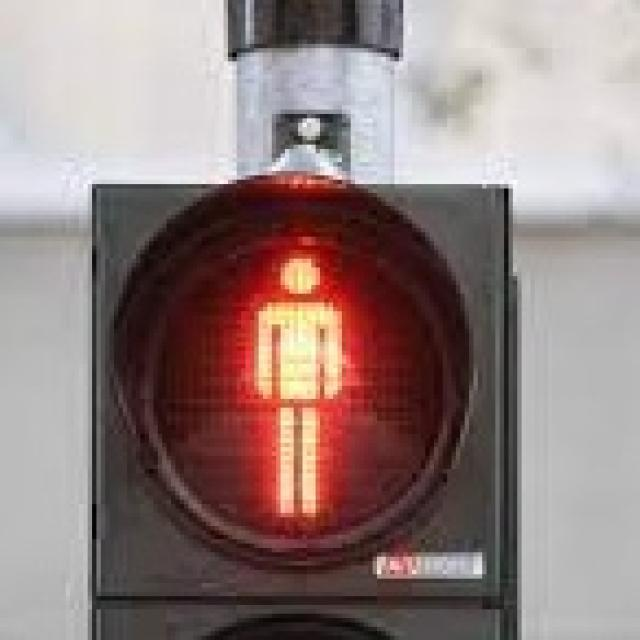red-crossing: (208, 229, 388, 536)
